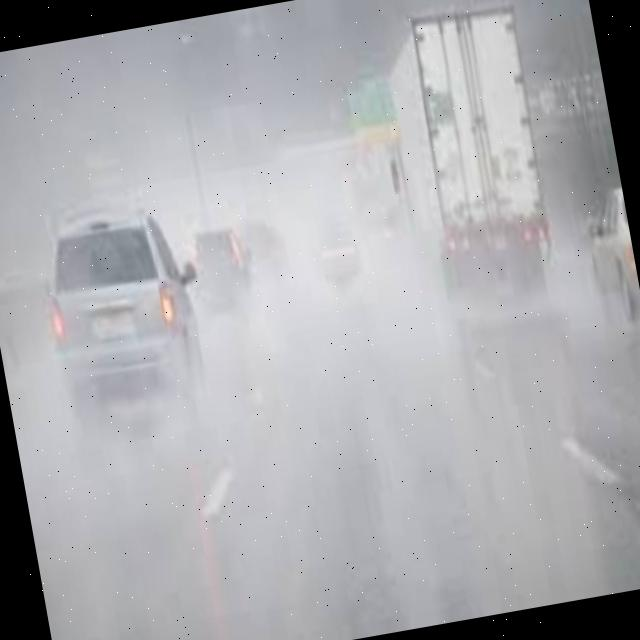bus: (364, 0, 560, 317)
car: (38, 200, 214, 424), (576, 184, 640, 326), (182, 218, 258, 334), (307, 217, 368, 299)
